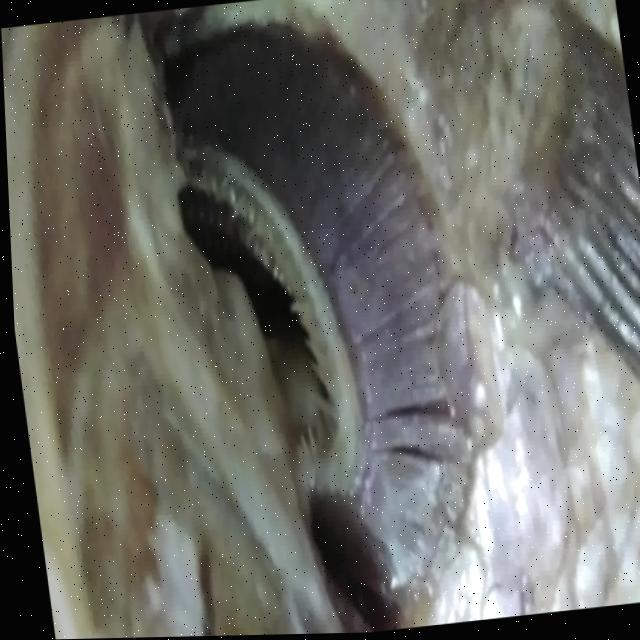Non-Fresh: (154, 0, 525, 624)
